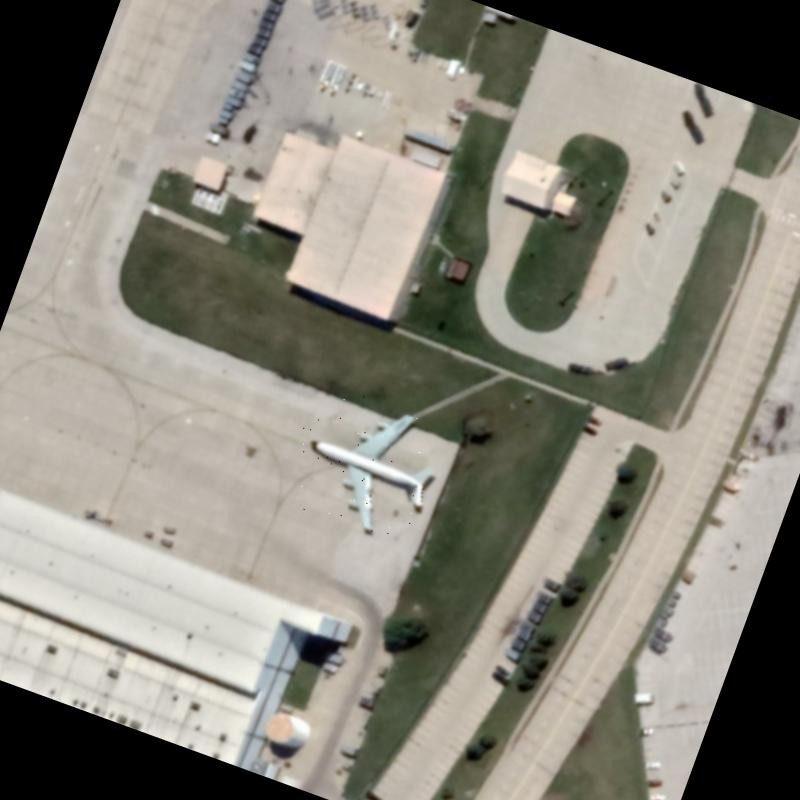A11: (275, 374, 462, 556)
